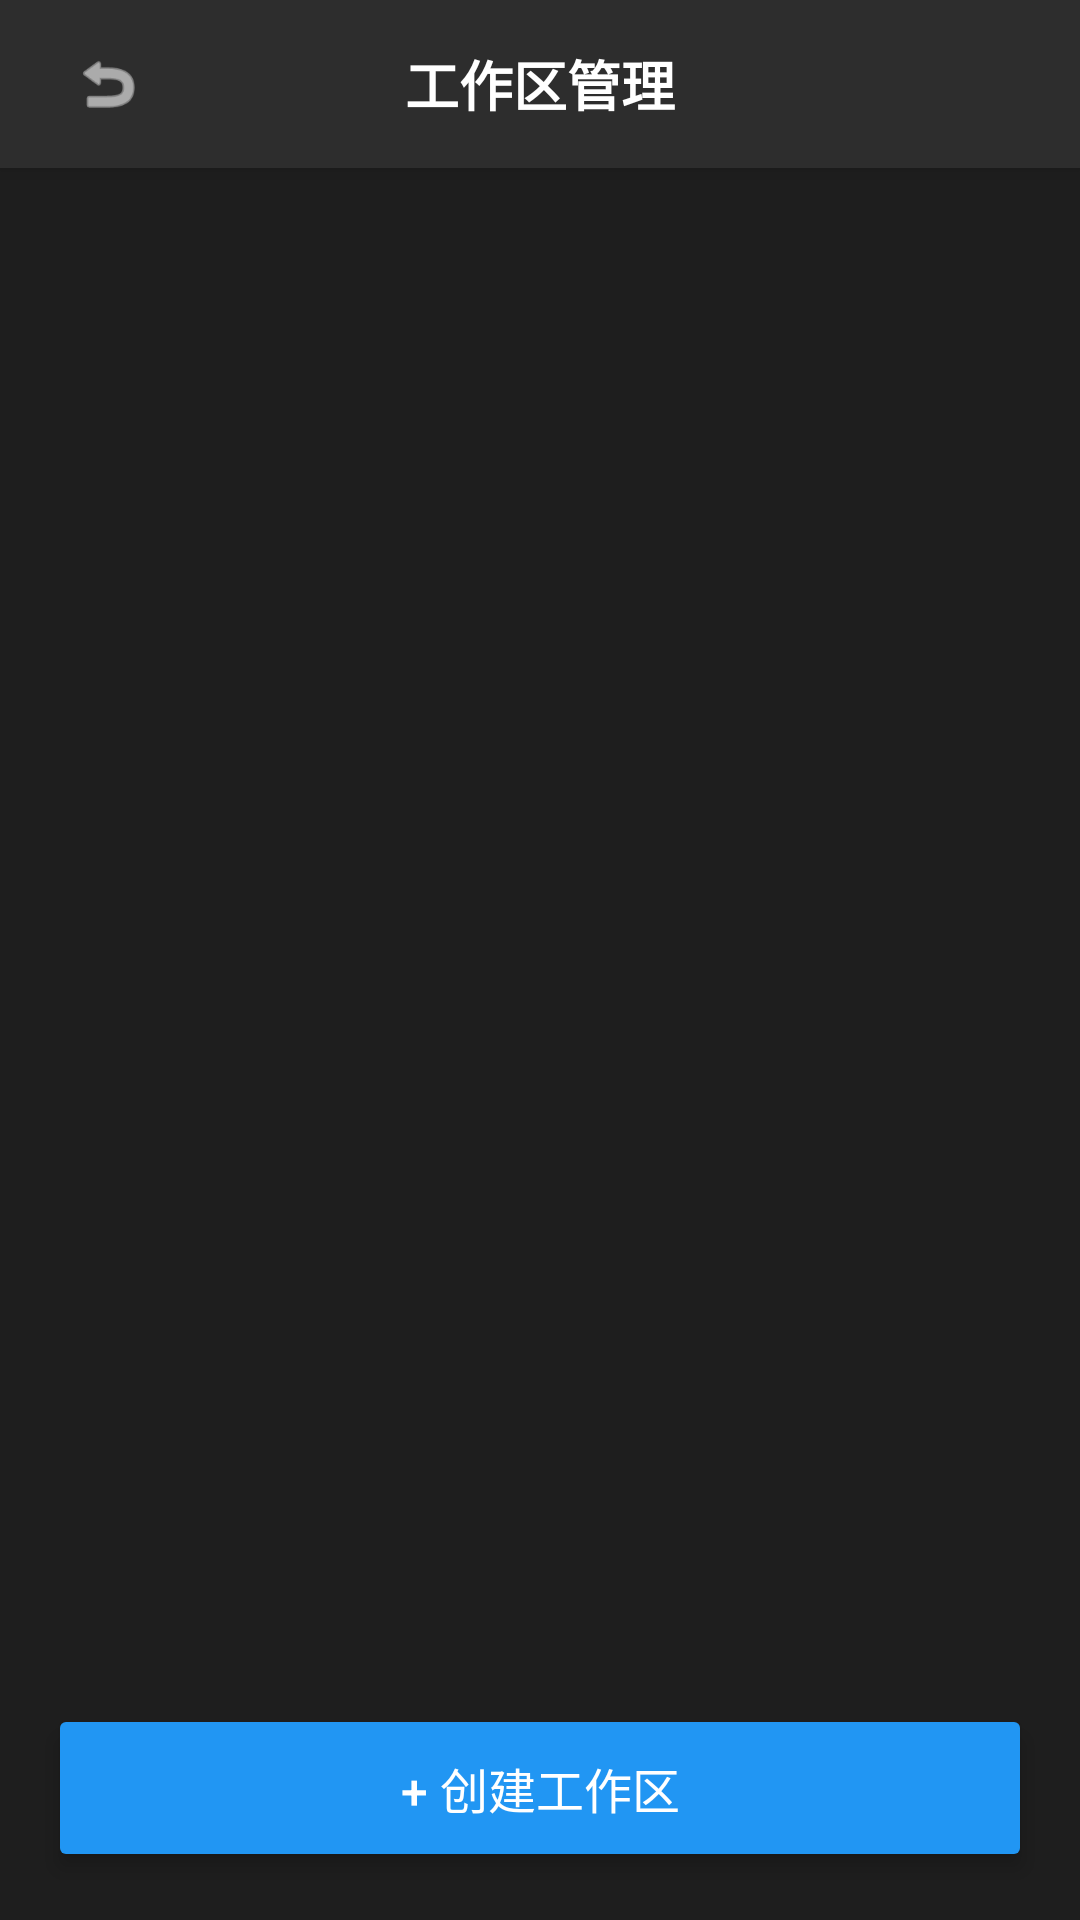

Screen size 1080*1920. Icon name, then its box in pixels as BBox(x1, y1, x2, y2):
返回: BBox(83, 61, 135, 108)
